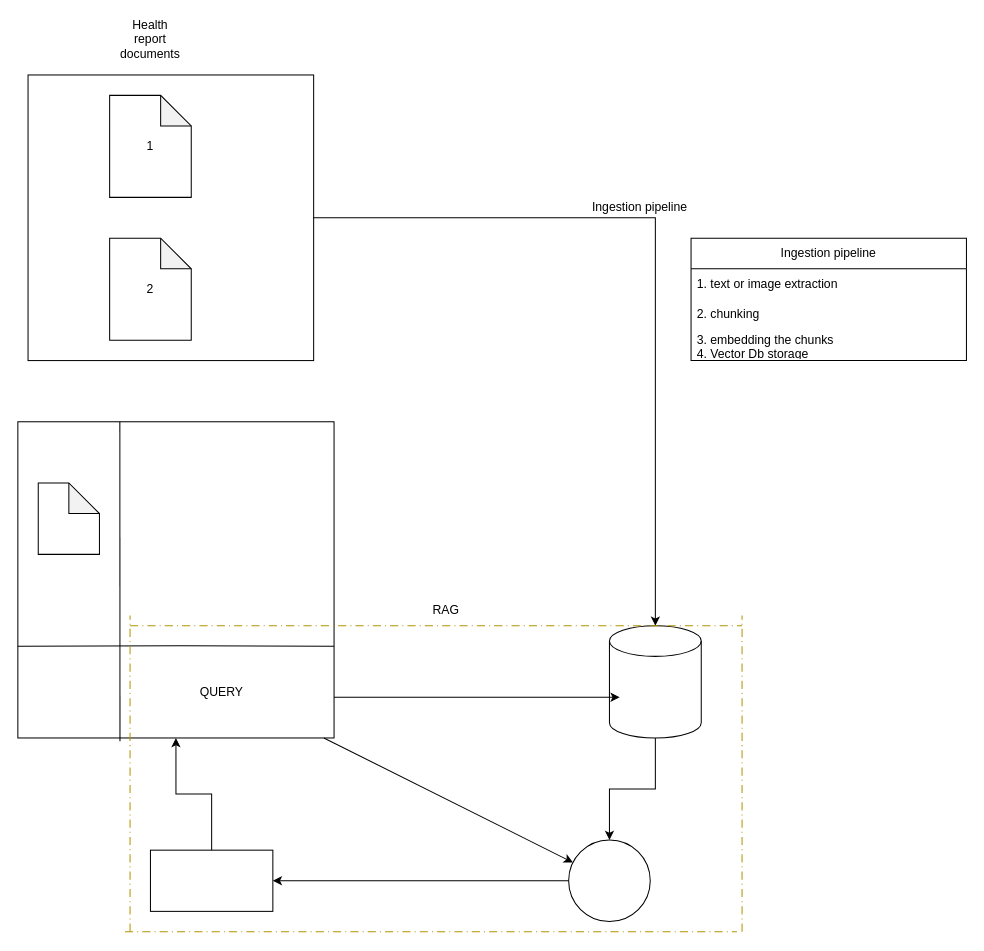
Some shapes in this 984 by 951 pixel diagram are drawn without their labels. The shapes that lost their labels are listed below. From the top down, each one's centre as x and y in pixels, then its label:
point 654,681: Vec DB
point 211,880: LLM
